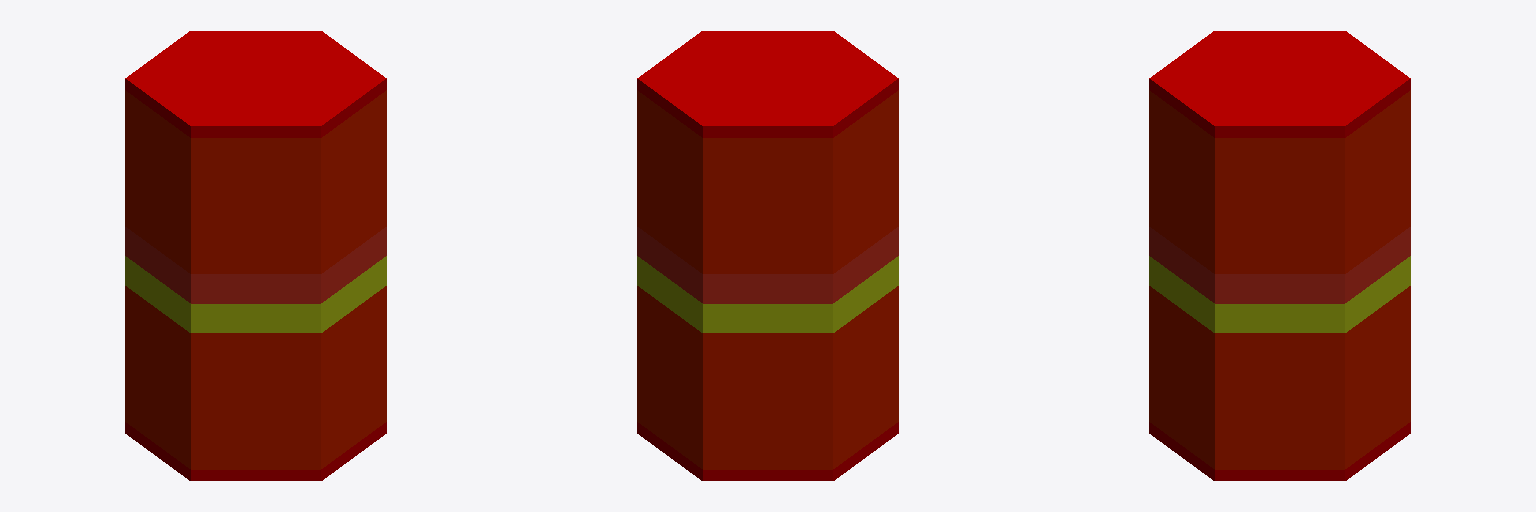
File: barrel.obj
The picture shows the model from 3 angles: view 1: azimuth 30°, elevation 25°; view 2: azimuth 150°, elevation 25°; view 3: azimuth 270°, elevation 25°; orthographic projection.
Visible parts, largest first — view 1: Cylinder; view 2: Cylinder; view 3: Cylinder.
Part boxes in pixels (bbox=[...]): Cylinder: bbox=[125, 31, 386, 480]; Cylinder: bbox=[637, 31, 898, 480]; Cylinder: bbox=[1149, 31, 1410, 480].
Bounding box in the file's own units: 0.3464 × 0.6 × 0.4.